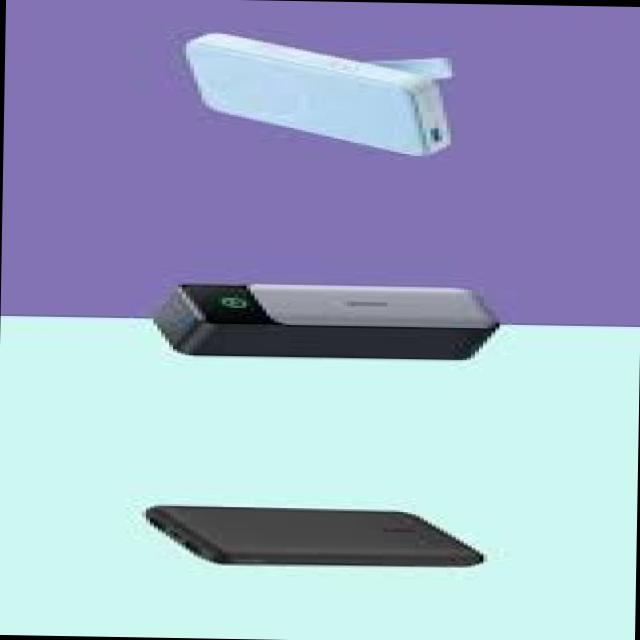portable-charger: (178, 19, 480, 160), (138, 272, 511, 370), (144, 492, 506, 572)
